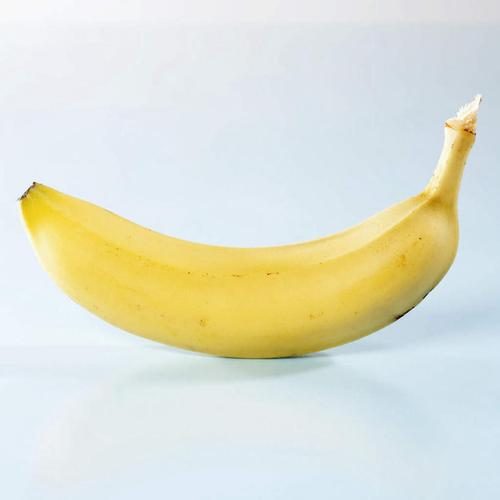banana: (17, 94, 477, 358)
